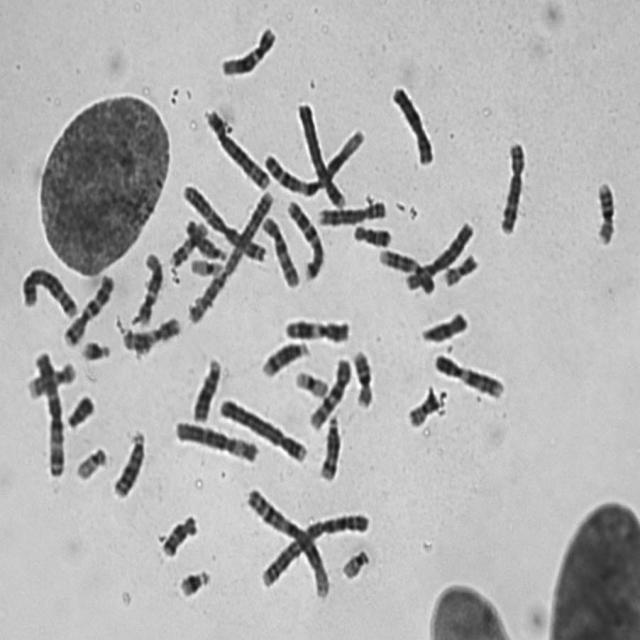A1: (240, 480, 331, 601), (258, 120, 367, 196)
A2: (181, 180, 276, 326), (255, 504, 372, 590)
A3: (176, 175, 270, 264), (27, 342, 67, 479)
B4: (214, 388, 310, 465), (292, 94, 348, 210)
B5: (199, 100, 272, 193), (15, 258, 80, 319)
C10: (304, 349, 354, 431), (256, 208, 302, 290)
C11: (116, 308, 183, 353), (279, 310, 352, 343)
C12: (215, 18, 279, 78), (128, 245, 166, 327)
C6: (399, 213, 477, 293), (170, 412, 260, 465)
C7: (58, 266, 116, 348), (281, 192, 325, 282)
C8: (493, 132, 529, 237), (312, 192, 389, 227)
C9: (428, 346, 507, 400), (374, 240, 437, 295)
D13: (107, 421, 148, 500), (186, 349, 224, 424)
D14: (256, 333, 312, 379), (314, 405, 342, 483)
D15: (180, 211, 229, 262), (416, 303, 470, 344)
E16: (589, 172, 618, 247), (346, 341, 376, 410)
E17: (22, 353, 78, 400), (165, 212, 210, 268)
E18: (155, 506, 200, 559), (348, 216, 393, 248)
F19: (290, 362, 330, 400), (186, 249, 227, 278)
F20: (401, 382, 443, 430), (437, 245, 480, 288)
G21: (172, 560, 213, 600), (75, 332, 112, 363)
G22: (70, 438, 109, 482), (336, 541, 372, 581)
X: (385, 76, 436, 168)
Y: (60, 386, 96, 431)
